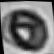correct: (0, 2, 54, 54)
